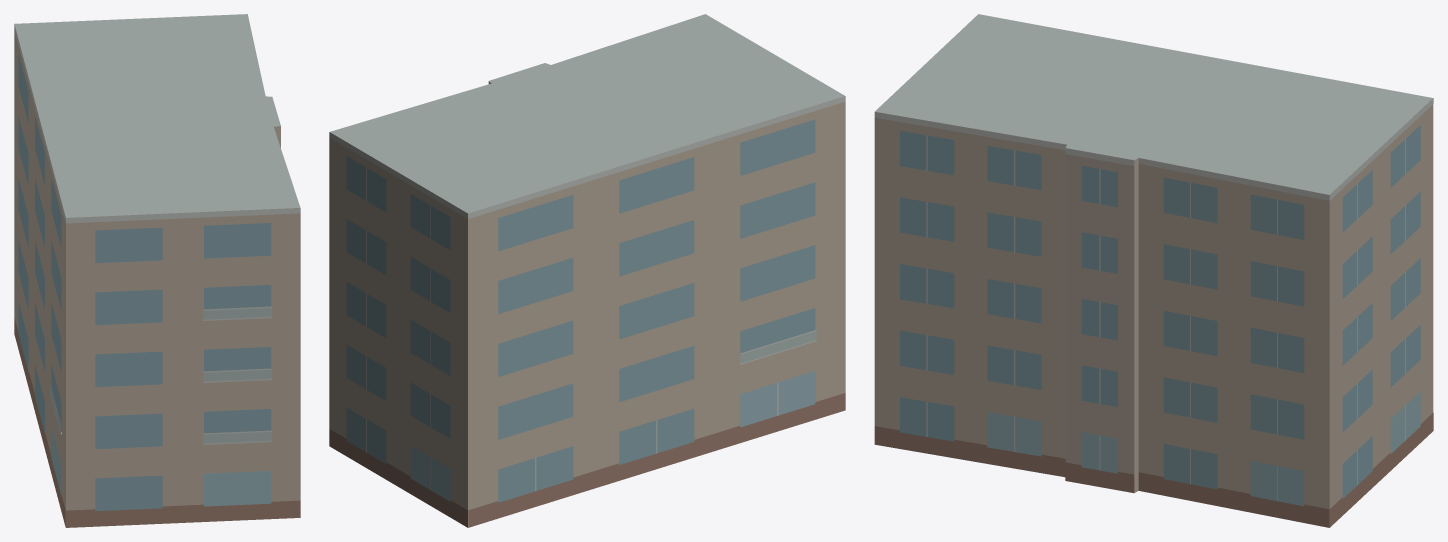
Rendered from survey-upis-32740061.glb.
The picture shows the model from 3 angles, left to right: view 1: azimuth 30°, elevation 25°; view 2: azimuth 150°, elevation 25°; view 3: azimuth 270°, elevation 25°; orthographic projection. The views are drawn at different scales.
Visible parts, largest first — view 1: survey-upis-32740061.tmp; view 2: survey-upis-32740061.tmp; view 3: survey-upis-32740061.tmp.
Boxes of the visible parts, x1,y1,x2,y2 form: survey-upis-32740061.tmp: (14,14,300,527); survey-upis-32740061.tmp: (329,14,845,527); survey-upis-32740061.tmp: (874,14,1433,527).
Bounding box in the file's own units: 15.98 × 13.7 × 20.85.
